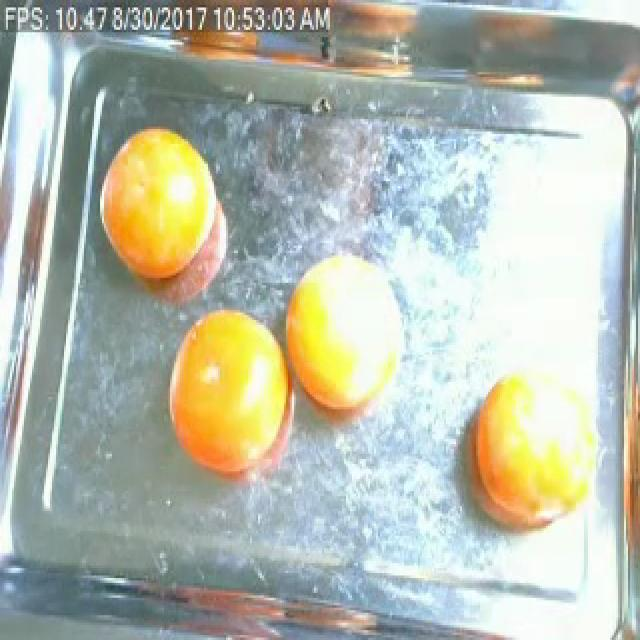Fruit: (156, 287, 300, 503), (90, 109, 244, 310)
